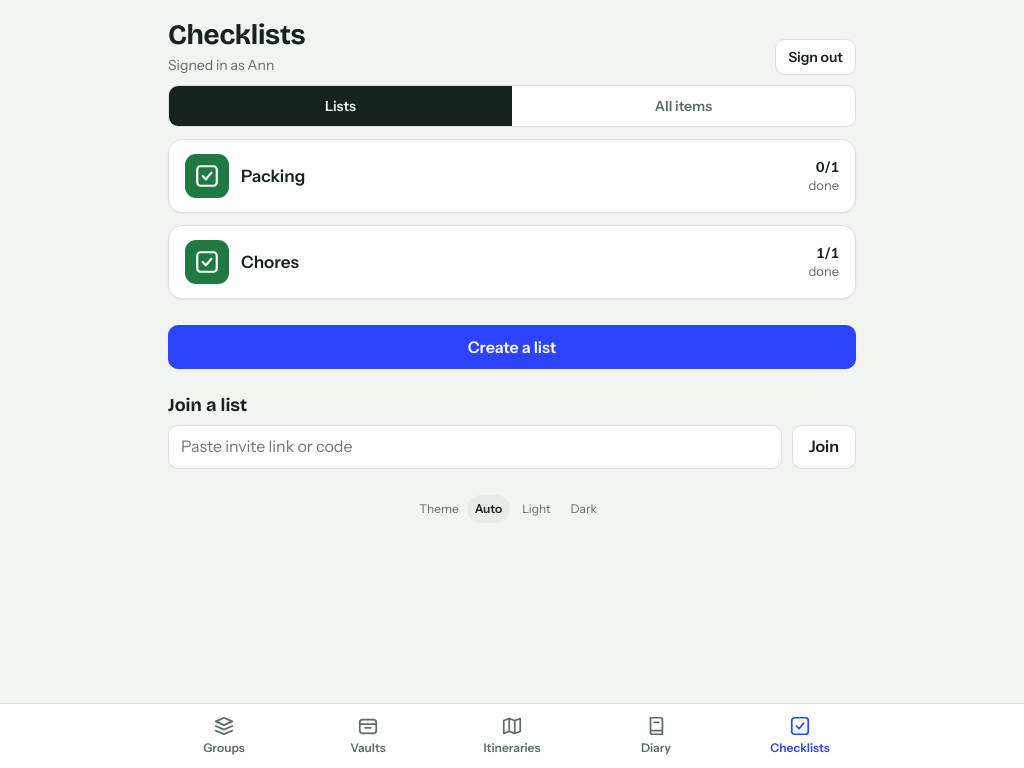
checklists home › shows lists with counts, and all items across lists
Expected: the text "Chores" is shown, [241, 252, 299, 272]
Expected: the text "1/1" is shown, [816, 245, 839, 263]
Click the button "All items" at x=684, y=106, box [512, 86, 855, 126]
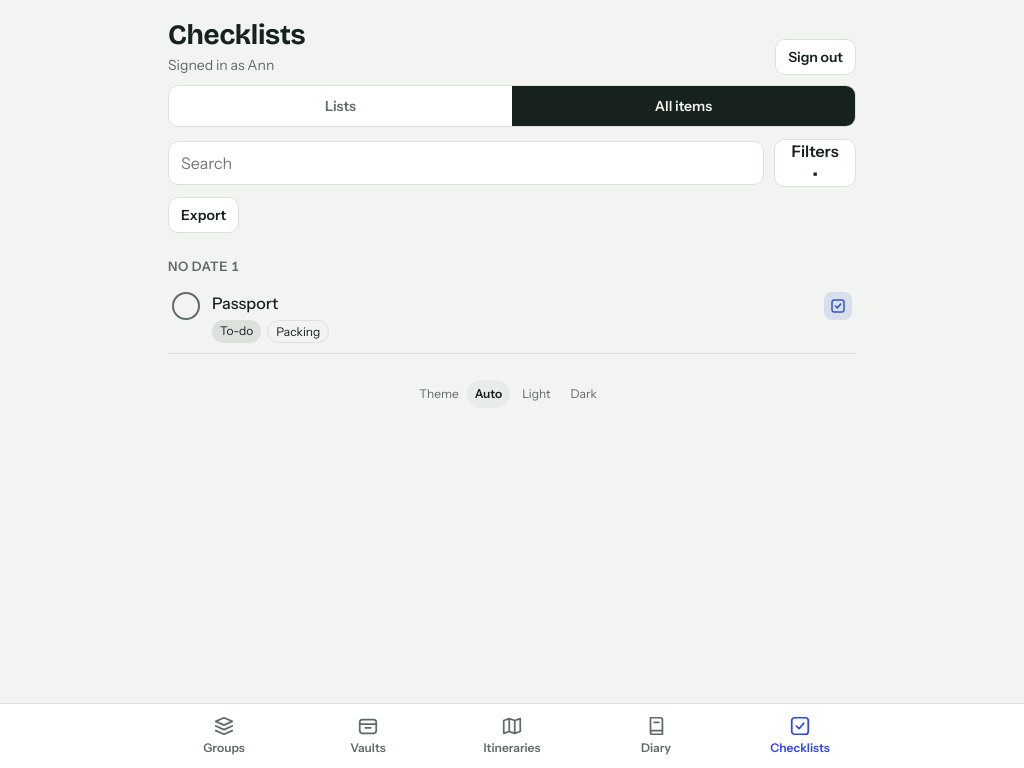
Now the text "Passport" is shown, box [212, 292, 278, 316]
